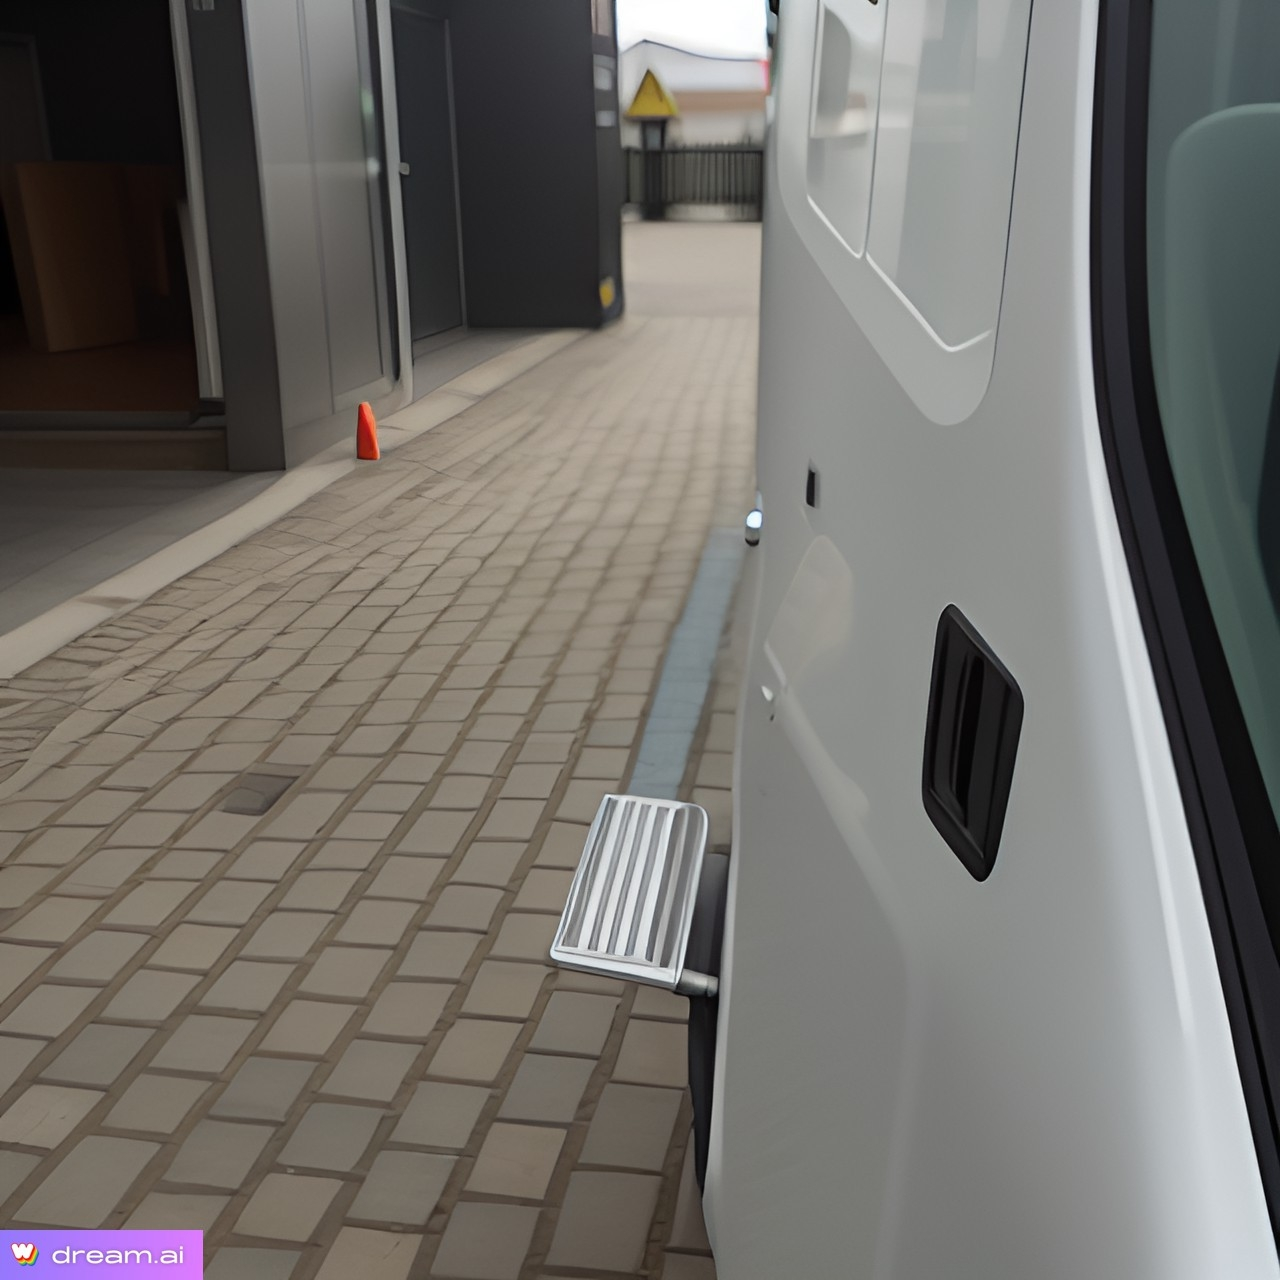step_front: (542, 770, 806, 1051)
